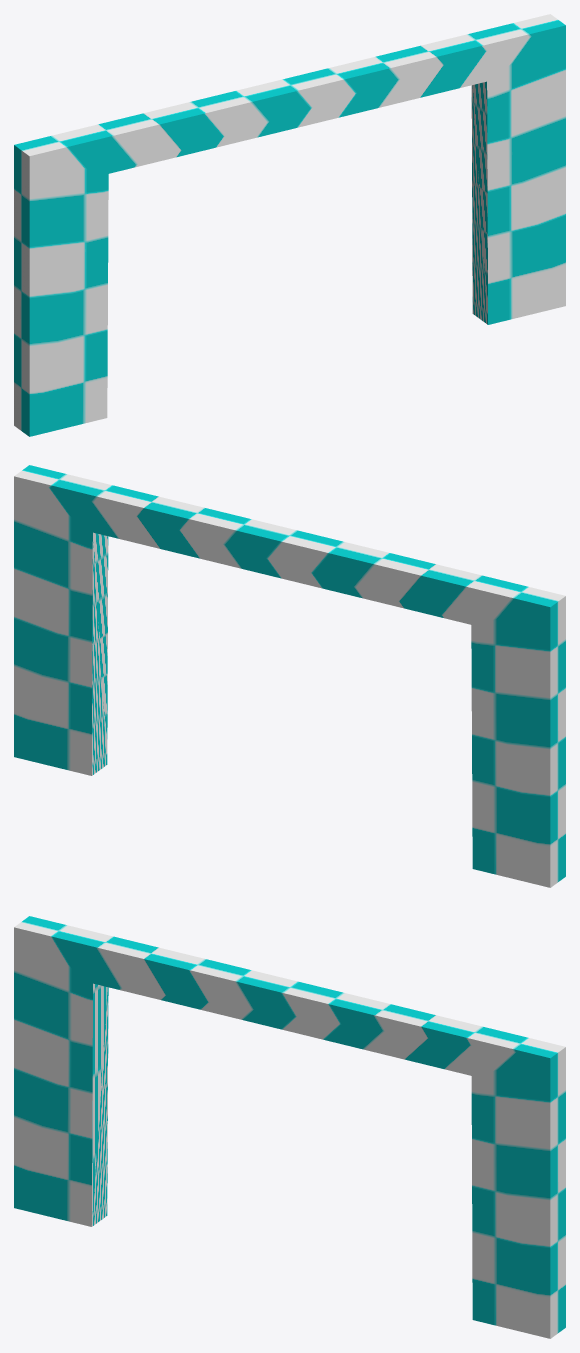
File: DoorFrame.fbx
The picture shows the model from 3 angles, top to bottom: view 1: azimuth 30°, elevation 25°; view 2: azimuth 150°, elevation 25°; view 3: azimuth 330°, elevation 25°; orthographic projection.
Visible parts, largest first — view 1: DoorFrame; view 2: DoorFrame; view 3: DoorFrame.
Boxes of the visible parts, x1,y1,x2,y2 form: DoorFrame: [14, 14, 565, 436]; DoorFrame: [14, 465, 565, 887]; DoorFrame: [14, 916, 565, 1338].
Bounding box in the file's own units: 236 × 11.83 × 118.
1 material, 1 textured.
